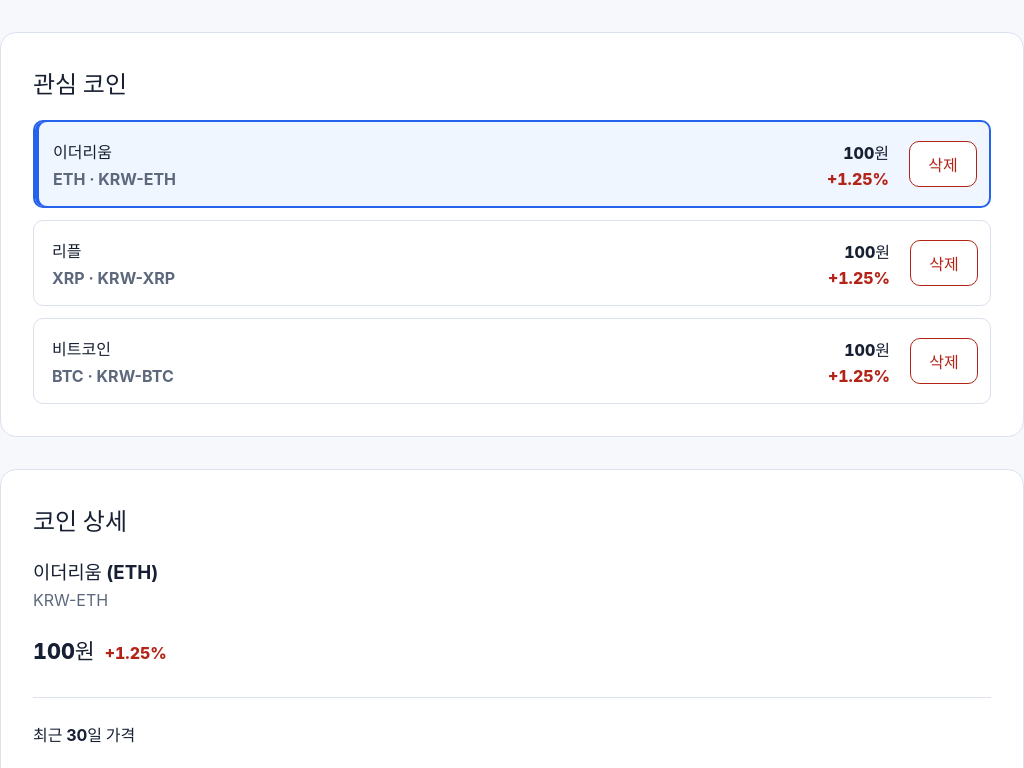
Scenario: DELETE 성공 후 서버 목록 reconciliation › 선택 항목 삭제 후 서버 첫 ACTIVE 항목을 선택하고 새 차트를 요청한다
Click the button with aria-label "이더리움 삭제" at point(943, 164), box [909,141,977,187]
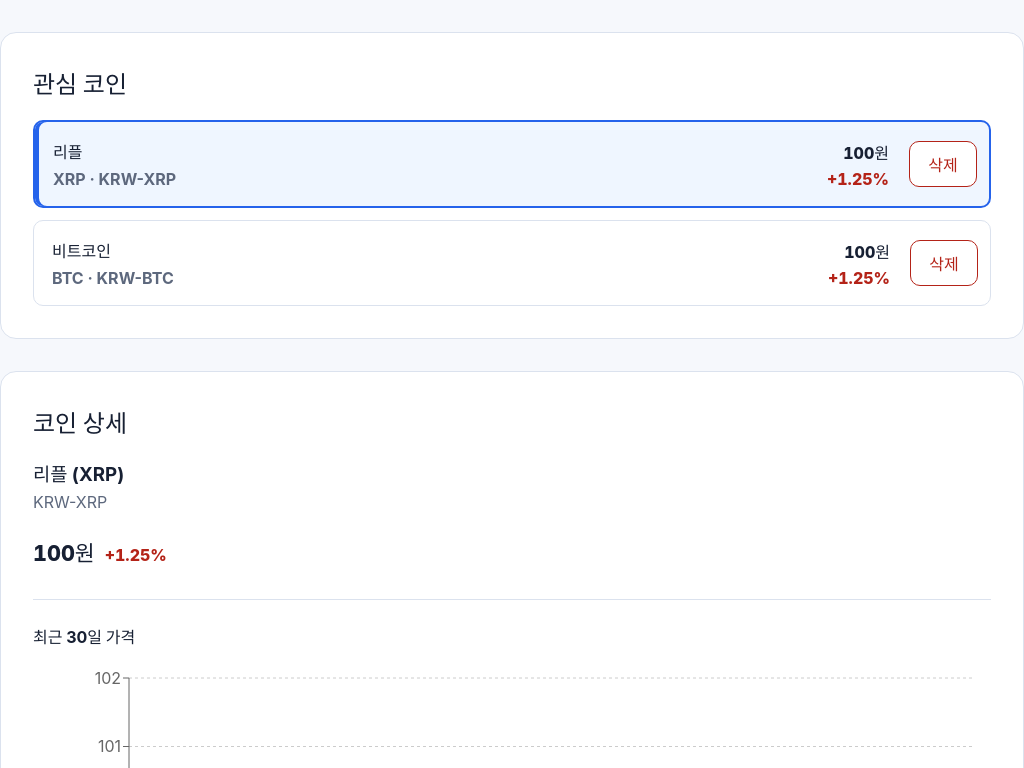
Expected: the text "KRW-XRP" is shown, [33,492,107,512]
